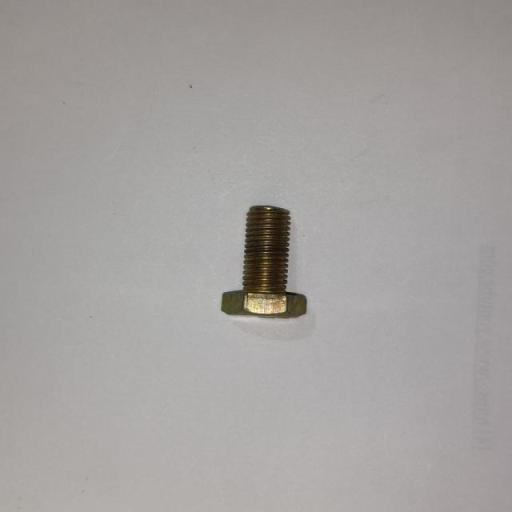Bolt: (221, 205, 307, 320)
